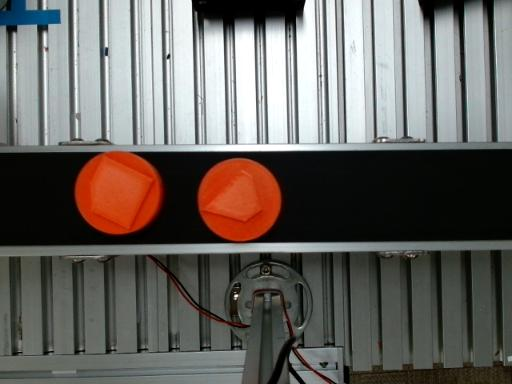Not_Square: (89, 154, 153, 228), (201, 169, 263, 221)
Orange_Waper: (74, 151, 163, 234), (198, 158, 281, 241)
